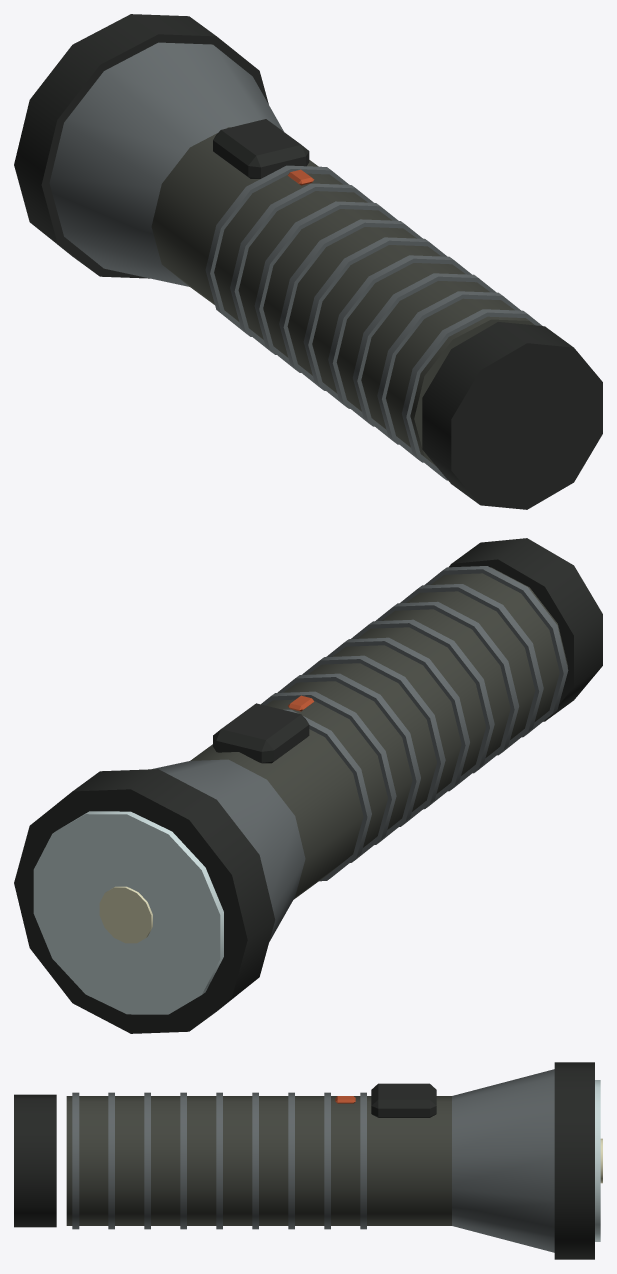
File: flashlight.glb
3 renders of one model, top to bottom at view 1: azimuth 30°, elevation 25°; view 2: azimuth 150°, elevation 25°; view 3: azimuth 270°, elevation 25°, orthographic. The views are drawn at different scales.
Parts seen in each view (by area): view 1: Parkerized steel, Black rubber, Weathered polymer; view 2: Weathered polymer, Black rubber, Light reflector, Parkerized steel, Sight inserts; view 3: Weathered polymer, Parkerized steel, Black rubber, Light reflector.
Part boxes in pixels (x1=…): Parkerized steel: x1=49, y1=42, x2=542, y2=480; Black rubber: x1=14, y1=14, x2=602, y2=509; Weathered polymer: x1=151, y1=127, x2=534, y2=466; Weathered polymer: x1=190, y1=567, x2=567, y2=899; Black rubber: x1=14, y1=538, x2=602, y2=1033; Light reflector: x1=33, y1=811, x2=223, y2=1014; Parkerized steel: x1=152, y1=566, x2=568, y2=941; Sight inserts: x1=99, y1=886, x2=152, y2=943; Weathered polymer: x1=66, y1=1096, x2=451, y2=1225; Parkerized steel: x1=72, y1=1069, x2=554, y2=1252; Black rubber: x1=14, y1=1062, x2=594, y2=1259; Light reflector: x1=595, y1=1080, x2=600, y2=1241.
Size of the model in its own units: 0.088 by 0.088 by 0.262.
